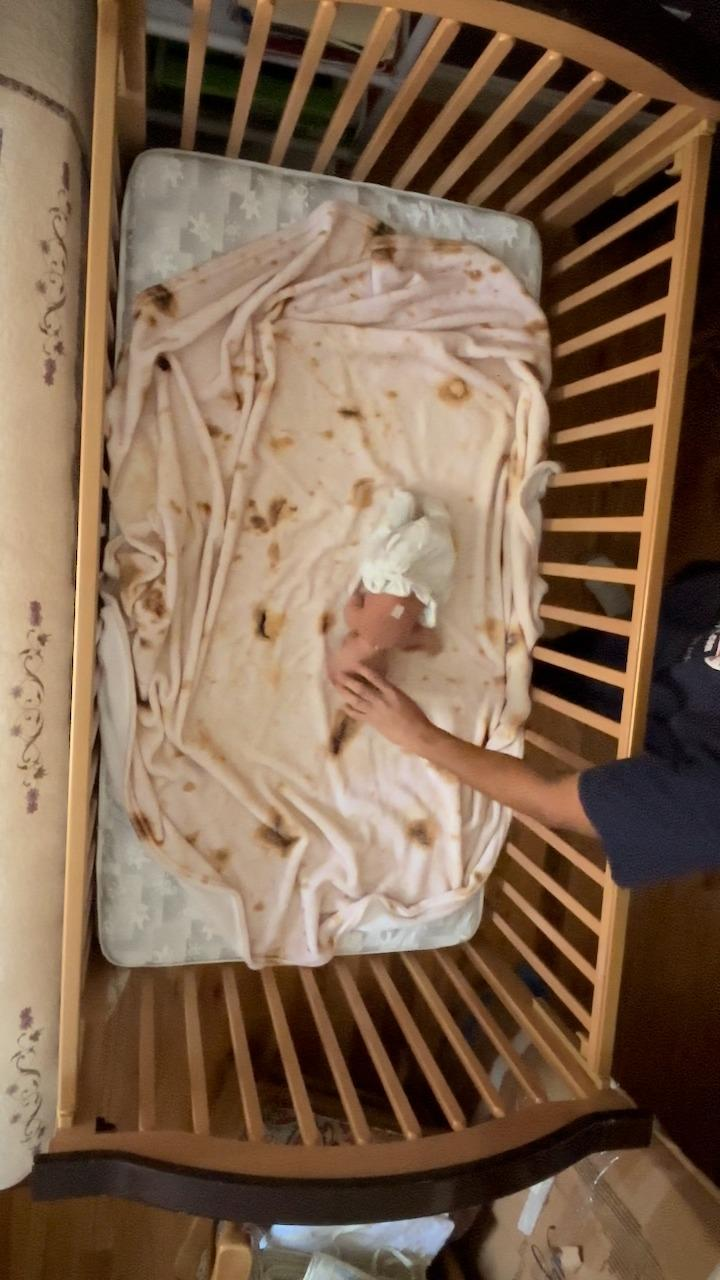baby: (320, 478, 461, 690)
